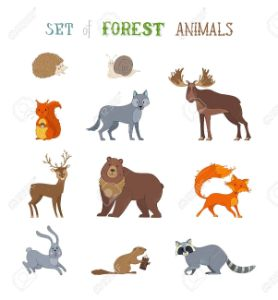bear: (96, 152, 171, 221)
fox: (191, 160, 251, 221)
wolf: (85, 87, 152, 146)
